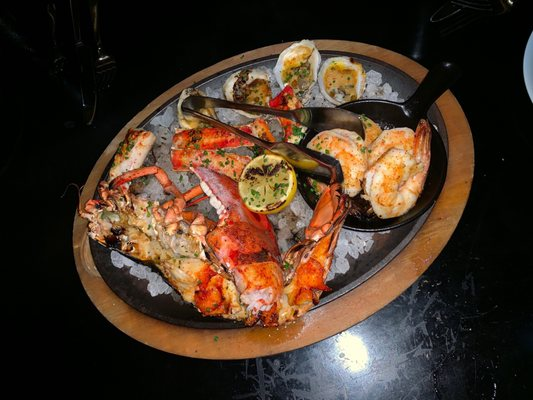sushi: (70, 19, 477, 362)
